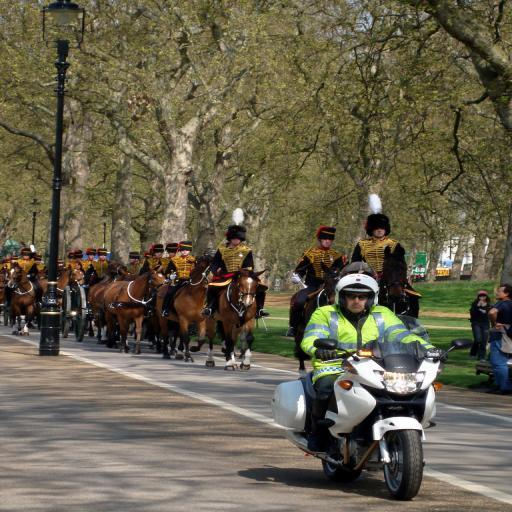horse: (0, 259, 270, 371), (286, 262, 352, 379), (380, 244, 420, 333)
